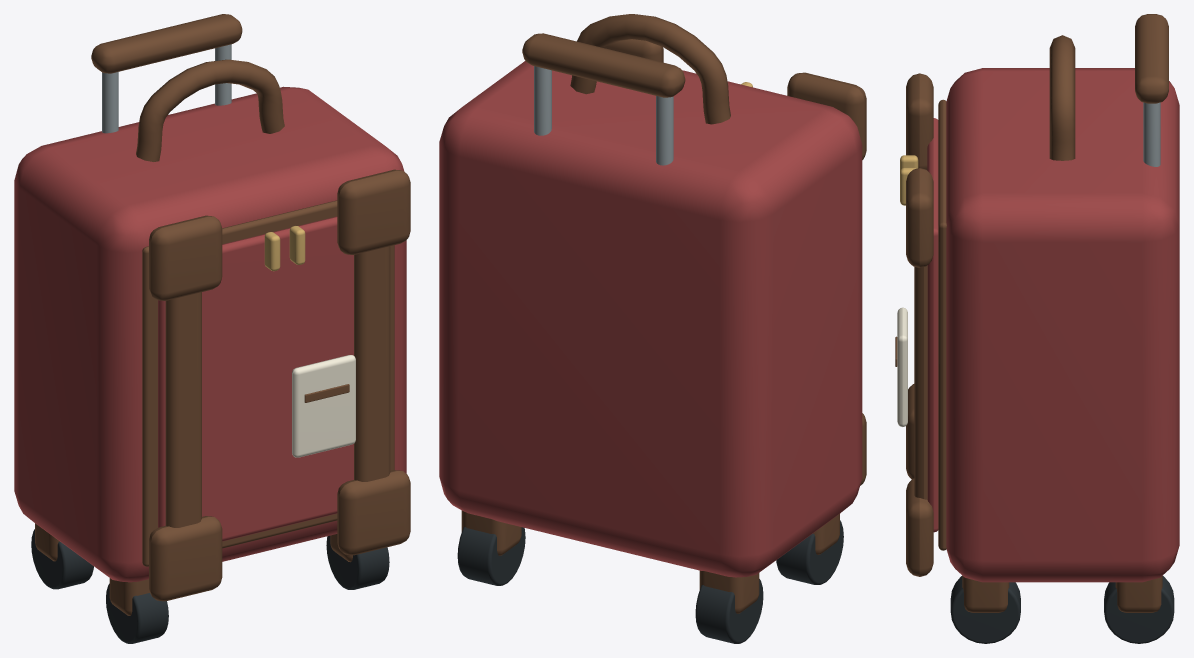
Rendered from HotelTogether-RedSuitcase.glb.
3 renders of one model, left to right at view 1: azimuth 30°, elevation 25°; view 2: azimuth 150°, elevation 25°; view 3: azimuth 270°, elevation 25°, orthographic. The views are drawn at different scales.
Parts seen in each view (by area): view 1: Case_RoundedShell.001, Case_FrontPanel.001, Case_BrownTrim.002, Case_BrownTrim.003, Case_OpeningSeam.001, Case_CarryHandle.001, Case_NameTag.001, Case_Corner.007, Case_Corner.005, Case_Corner.006, Case_Corner.004, Case_PullHandle.001 (+9 smaller); view 2: Case_RoundedShell.001, Case_CarryHandle.001, Case_PullHandle.001, Case_Wheel.005, Case_Wheel.007, Case_Corner.005, Case_Wheel.004, Case_WheelMount.005, Case_PullRail.002, Case_WheelMount.007, Case_PullRail.003, Case_Corner.007 (+1 smaller); view 3: Case_RoundedShell.001, Case_FrontPanel.001, Case_OpeningSeam.001, Case_CarryHandle.001, Case_BrownTrim.003, Case_PullHandle.001, Case_Corner.007, Case_Wheel.007, Case_Wheel.006, Case_Corner.005, Case_Corner.006, Case_WheelMount.007 (+4 smaller).
Part boxes in pixels (x1,y1,x2,y2): Case_RoundedShell.001: [14, 86, 406, 582]; Case_FrontPanel.001: [158, 216, 353, 541]; Case_BrownTrim.002: [165, 292, 201, 527]; Case_BrownTrim.003: [354, 246, 390, 481]; Case_OpeningSeam.001: [142, 200, 394, 566]; Case_CarryHandle.001: [136, 59, 284, 161]; Case_NameTag.001: [292, 355, 355, 457]; Case_Corner.007: [337, 169, 410, 254]; Case_Corner.005: [149, 215, 222, 300]; Case_Corner.006: [337, 470, 410, 555]; Case_Corner.004: [149, 516, 222, 601]; Case_PullHandle.001: [91, 14, 242, 73]; Case_RoundedShell.001: [439, 61, 862, 577]; Case_CarryHandle.001: [570, 14, 730, 124]; Case_PullHandle.001: [522, 33, 685, 97]; Case_Wheel.005: [695, 579, 763, 643]; Case_Wheel.007: [457, 527, 525, 585]; Case_Corner.005: [787, 72, 866, 159]; Case_Wheel.004: [776, 520, 843, 584]; Case_WheelMount.005: [699, 570, 759, 613]; Case_PullRail.002: [656, 96, 673, 165]; Case_WheelMount.007: [461, 510, 521, 555]; Case_PullRail.003: [534, 66, 551, 135]; Case_Corner.007: [604, 39, 663, 62]; Case_RoundedShell.001: [946, 68, 1179, 582]; Case_FrontPanel.001: [927, 118, 938, 532]; Case_OpeningSeam.001: [938, 99, 946, 550]; Case_CarryHandle.001: [1049, 35, 1075, 160]; Case_BrownTrim.003: [914, 265, 927, 499]; Case_PullHandle.001: [1135, 14, 1168, 103]; Case_Corner.007: [906, 168, 933, 267]; Case_Wheel.007: [1104, 576, 1174, 643]; Case_Wheel.006: [950, 576, 1020, 643]; Case_Corner.005: [906, 73, 933, 169]; Case_Corner.006: [906, 478, 933, 576]; Case_WheelMount.007: [1115, 576, 1162, 612].
Bounding box in the file's own units: 0.34 × 0.5565 × 0.267.
